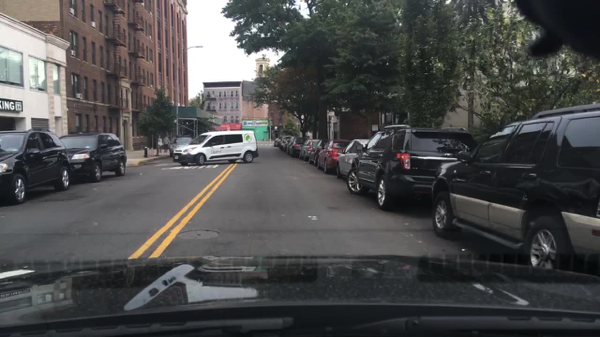car: (429, 105, 599, 271), (345, 126, 476, 213), (0, 129, 69, 207), (60, 134, 126, 183), (178, 129, 258, 166), (333, 139, 372, 180), (316, 142, 345, 174), (306, 144, 330, 166), (169, 139, 190, 161), (298, 140, 318, 162), (288, 140, 309, 160), (282, 137, 302, 154), (276, 137, 292, 149), (271, 138, 284, 148)
person: (156, 135, 163, 154), (163, 136, 169, 153)
